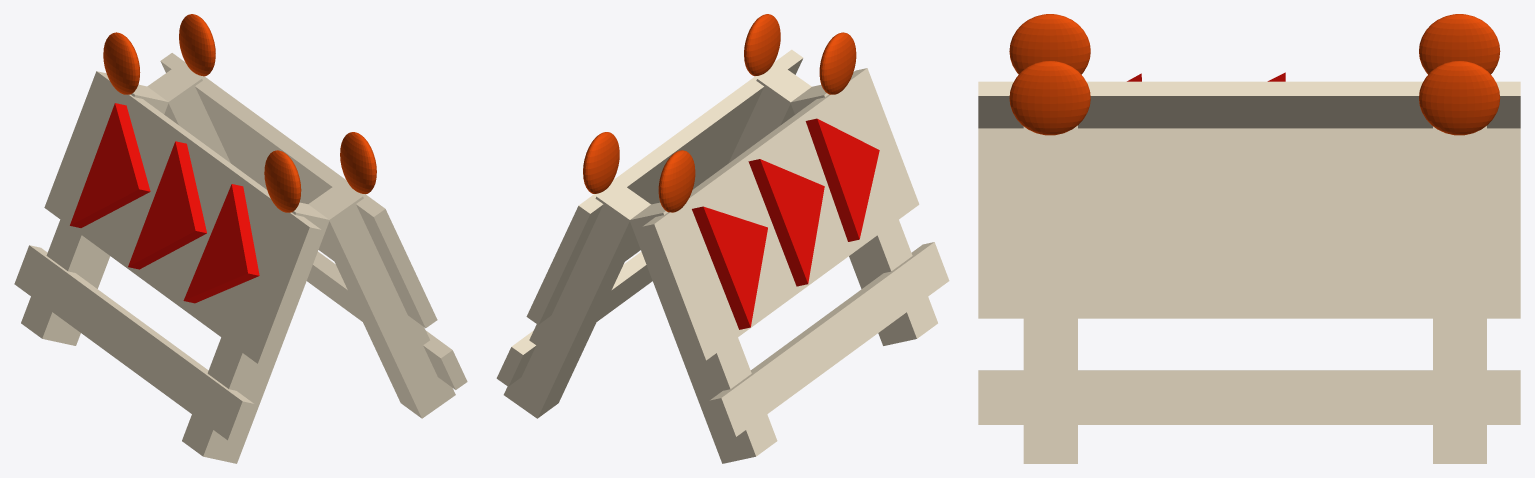
The model's file is Barricade_arrowright.fbx.
The picture shows the model from 3 angles, left to right: view 1: azimuth 30°, elevation 25°; view 2: azimuth 150°, elevation 25°; view 3: azimuth 270°, elevation 25°; orthographic projection. The views are drawn at different scales.
Visible parts, largest first — view 1: ArrowBarricadeRight; view 2: ArrowBarricadeRight; view 3: ArrowBarricadeRight.
Part boxes in pixels (<box>): ArrowBarricadeRight: <box>14,14,467,463</box>; ArrowBarricadeRight: <box>496,14,949,463</box>; ArrowBarricadeRight: <box>978,14,1520,463</box>.
Size of the model in its own units: 274 by 300 by 400.
